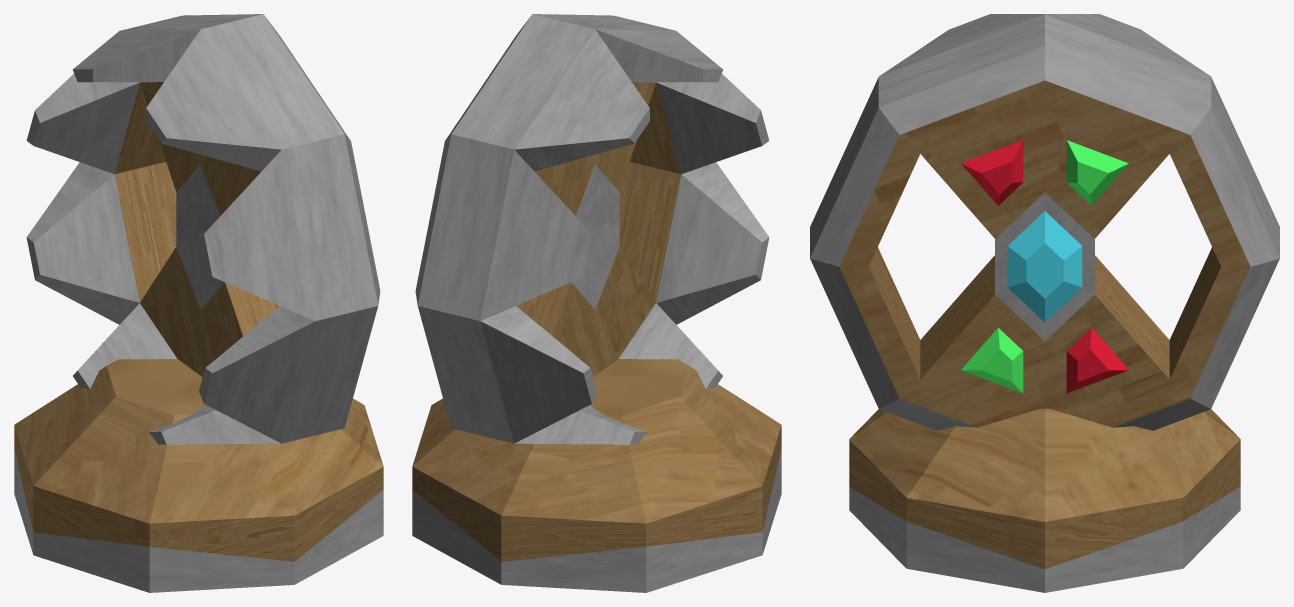
The model's file is item_ancient_idol.fbx.
The picture shows the model from 3 angles, left to right: view 1: azimuth 30°, elevation 25°; view 2: azimuth 150°, elevation 25°; view 3: azimuth 270°, elevation 25°; orthographic projection. The views are drawn at different scales.
Visible parts, largest first — view 1: Cylinder.001; view 2: Cylinder.001; view 3: Cylinder.001.
Part boxes in pixels (x1,y1,x2,y2): Cylinder.001: (14,14,383,592); Cylinder.001: (412,14,781,592); Cylinder.001: (810,14,1279,592).
Bounding box in the file's own units: 200 × 280 × 240.
Materials: 5 (2 with a texture image).
